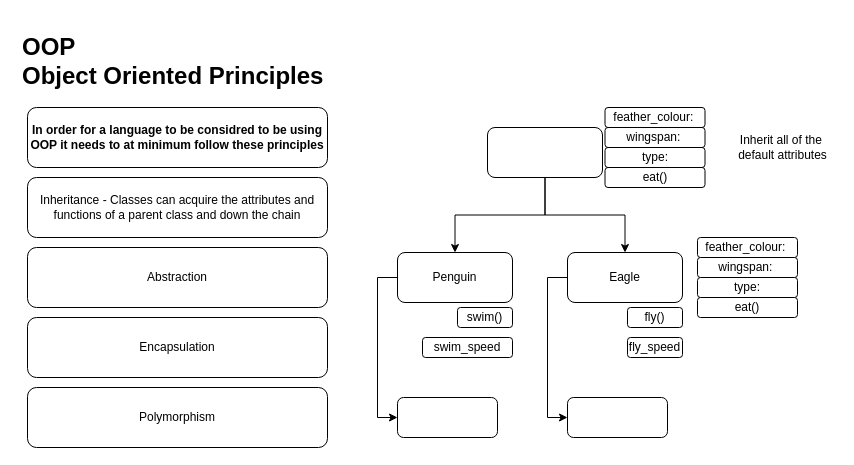
Some shapes in this 854 by 465 pixel diagram are drawn without their labels. Here are the shapes that lost their labels. From the top down, the box of each, then its label:
(486, 126, 602, 178): Bird
(396, 396, 498, 438): penguin1
(566, 396, 668, 438): eagle1
